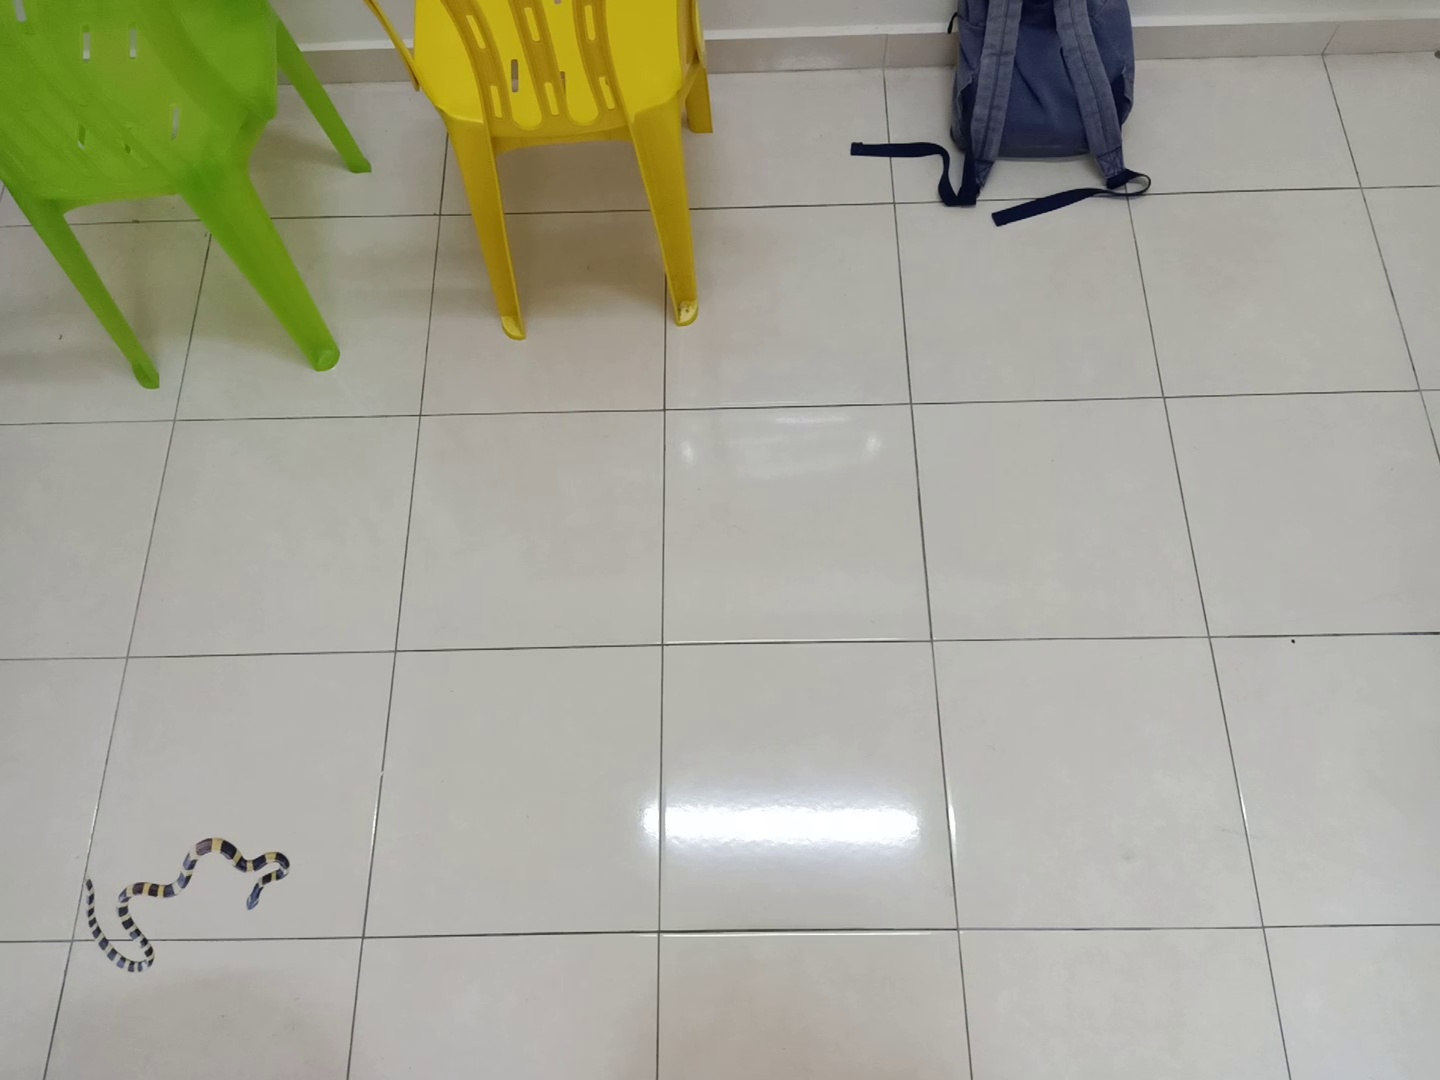snake: (75, 824, 300, 982)
